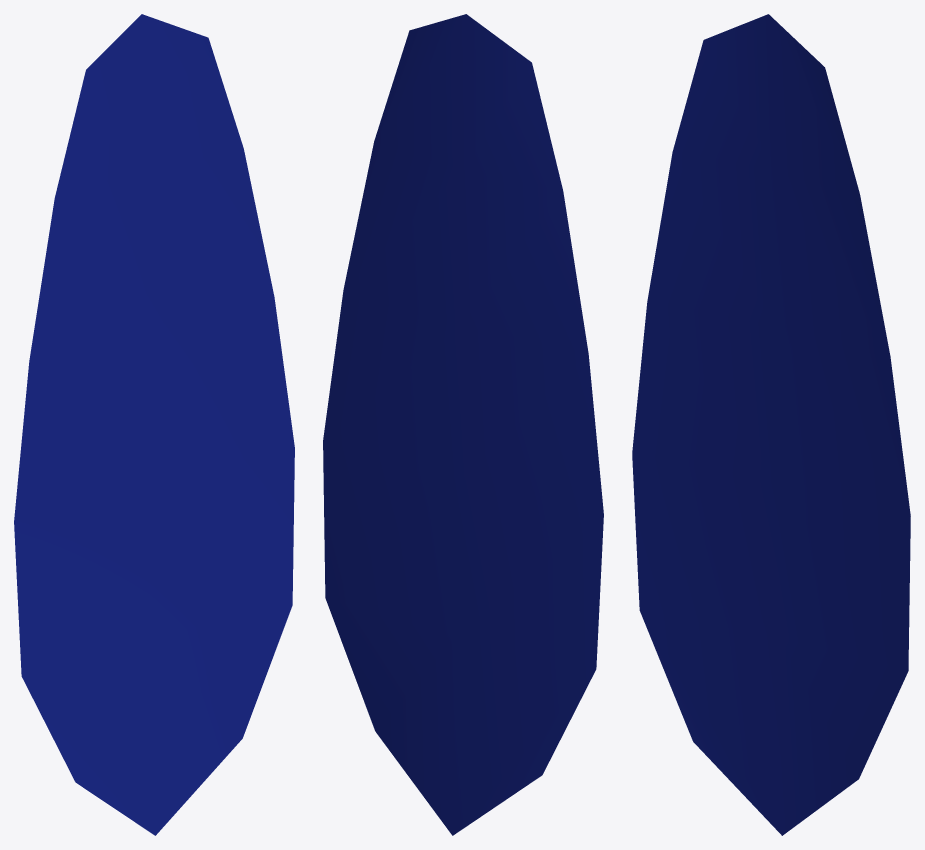
The model's file is lovebird_feather_flight_secondary_020.001.obj.
The picture shows the model from 3 angles, left to right: view 1: azimuth 30°, elevation 25°; view 2: azimuth 150°, elevation 25°; view 3: azimuth 330°, elevation 25°; orthographic projection.
Visible parts, largest first — view 1: feather_flight_secondary_020.001; view 2: feather_flight_secondary_020.001; view 3: feather_flight_secondary_020.001.
Part boxes in pixels (box(x1,y1,x2,y2)): feather_flight_secondary_020.001: box(14, 14, 294, 835); feather_flight_secondary_020.001: box(323, 14, 603, 835); feather_flight_secondary_020.001: box(632, 14, 910, 835).
Size of the model in its own units: 0.00527 by 0.0148 by 0.00016.
